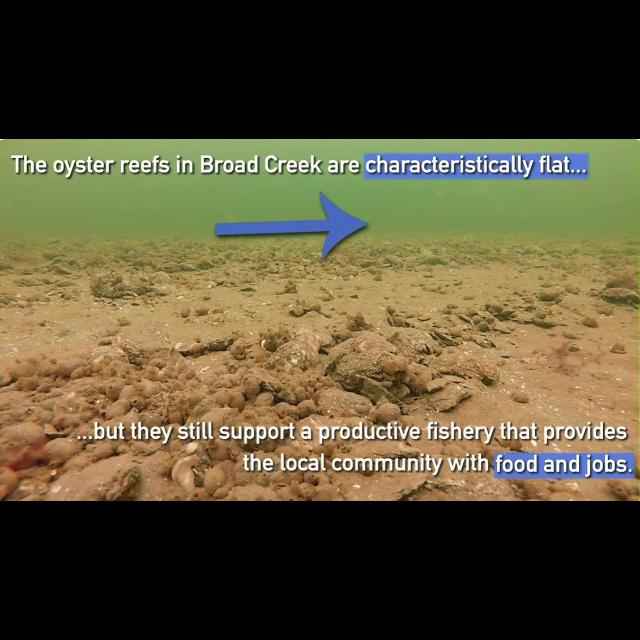Oyster-Closed: (325, 332, 396, 391), (70, 457, 141, 501), (429, 341, 499, 383), (377, 327, 441, 363), (356, 375, 407, 415), (122, 325, 172, 365), (265, 335, 319, 372), (313, 388, 372, 418), (191, 351, 239, 385), (87, 344, 129, 373), (428, 384, 471, 412), (0, 423, 45, 449), (171, 455, 200, 494), (347, 483, 409, 501), (295, 330, 320, 368), (44, 438, 82, 462), (0, 398, 31, 426), (90, 271, 122, 298), (201, 332, 240, 351), (516, 480, 551, 501), (0, 466, 19, 500), (600, 288, 639, 303), (51, 258, 85, 275), (175, 339, 206, 356), (606, 273, 636, 290), (417, 250, 447, 265), (537, 285, 564, 301), (126, 270, 151, 287), (310, 252, 340, 266), (44, 424, 70, 439), (470, 334, 496, 348), (548, 482, 580, 493), (527, 305, 550, 320), (204, 270, 226, 285), (511, 311, 534, 324), (336, 265, 359, 278), (473, 315, 490, 332), (548, 492, 580, 501), (519, 245, 545, 256), (223, 275, 247, 286), (490, 322, 511, 334), (385, 255, 404, 268), (485, 301, 505, 313), (478, 311, 496, 324), (196, 257, 214, 270), (126, 283, 146, 294), (511, 391, 529, 403), (0, 372, 14, 387), (457, 315, 475, 326), (583, 315, 599, 327), (42, 253, 65, 261), (162, 263, 180, 273), (359, 259, 379, 268), (610, 343, 626, 354), (195, 282, 217, 289), (180, 263, 196, 271), (144, 240, 156, 248), (206, 282, 217, 289), (49, 239, 60, 244)
Oyster-Open: (146, 284, 170, 297), (122, 290, 139, 297)
